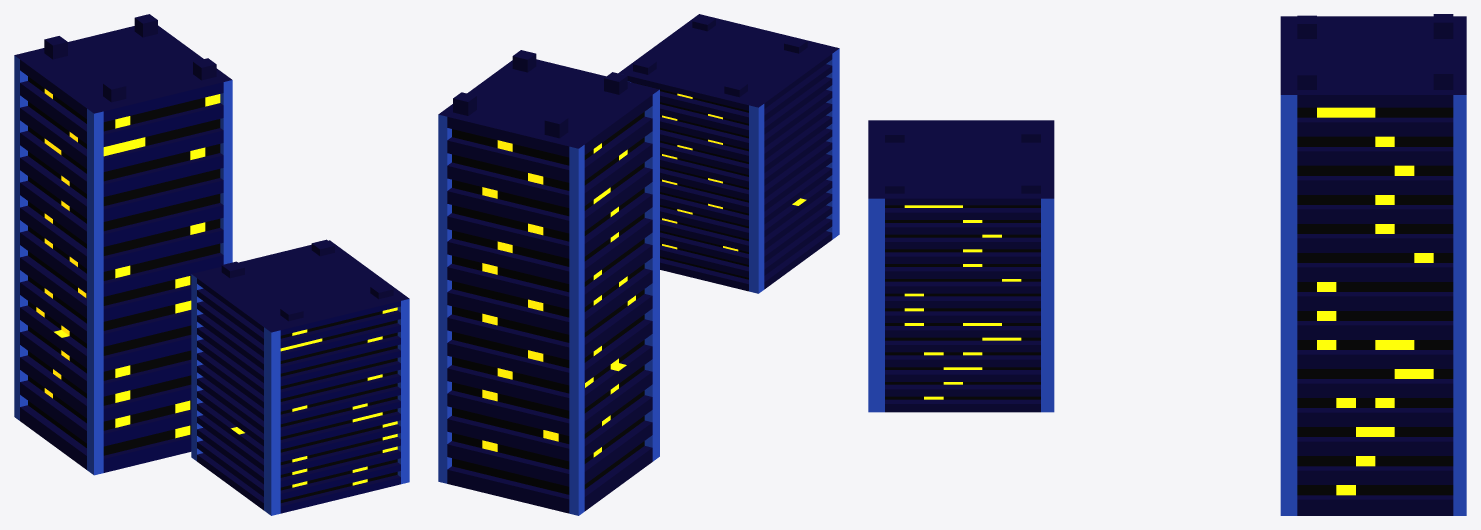
File: house13.glb
3 views of the same model, side by side, from view 1: azimuth 30°, elevation 25°; view 2: azimuth 150°, elevation 25°; view 3: azimuth 270°, elevation 25° (orthographic). The views are drawn at different scales.
Visible parts, largest first — view 1: 立方体.001, 立方体; view 2: 立方体.001, 立方体; view 3: 立方体.001, 立方体.
Part boxes in pixels (x1,y1,x2,y2): 立方体.001: (14, 14, 232, 475); 立方体: (191, 239, 409, 515); 立方体.001: (438, 50, 659, 515); 立方体: (618, 14, 839, 293); 立方体.001: (1280, 14, 1466, 515); 立方体: (868, 120, 1054, 412).
Size of the model in its own units: 6.36 by 16.5 by 20.47.
